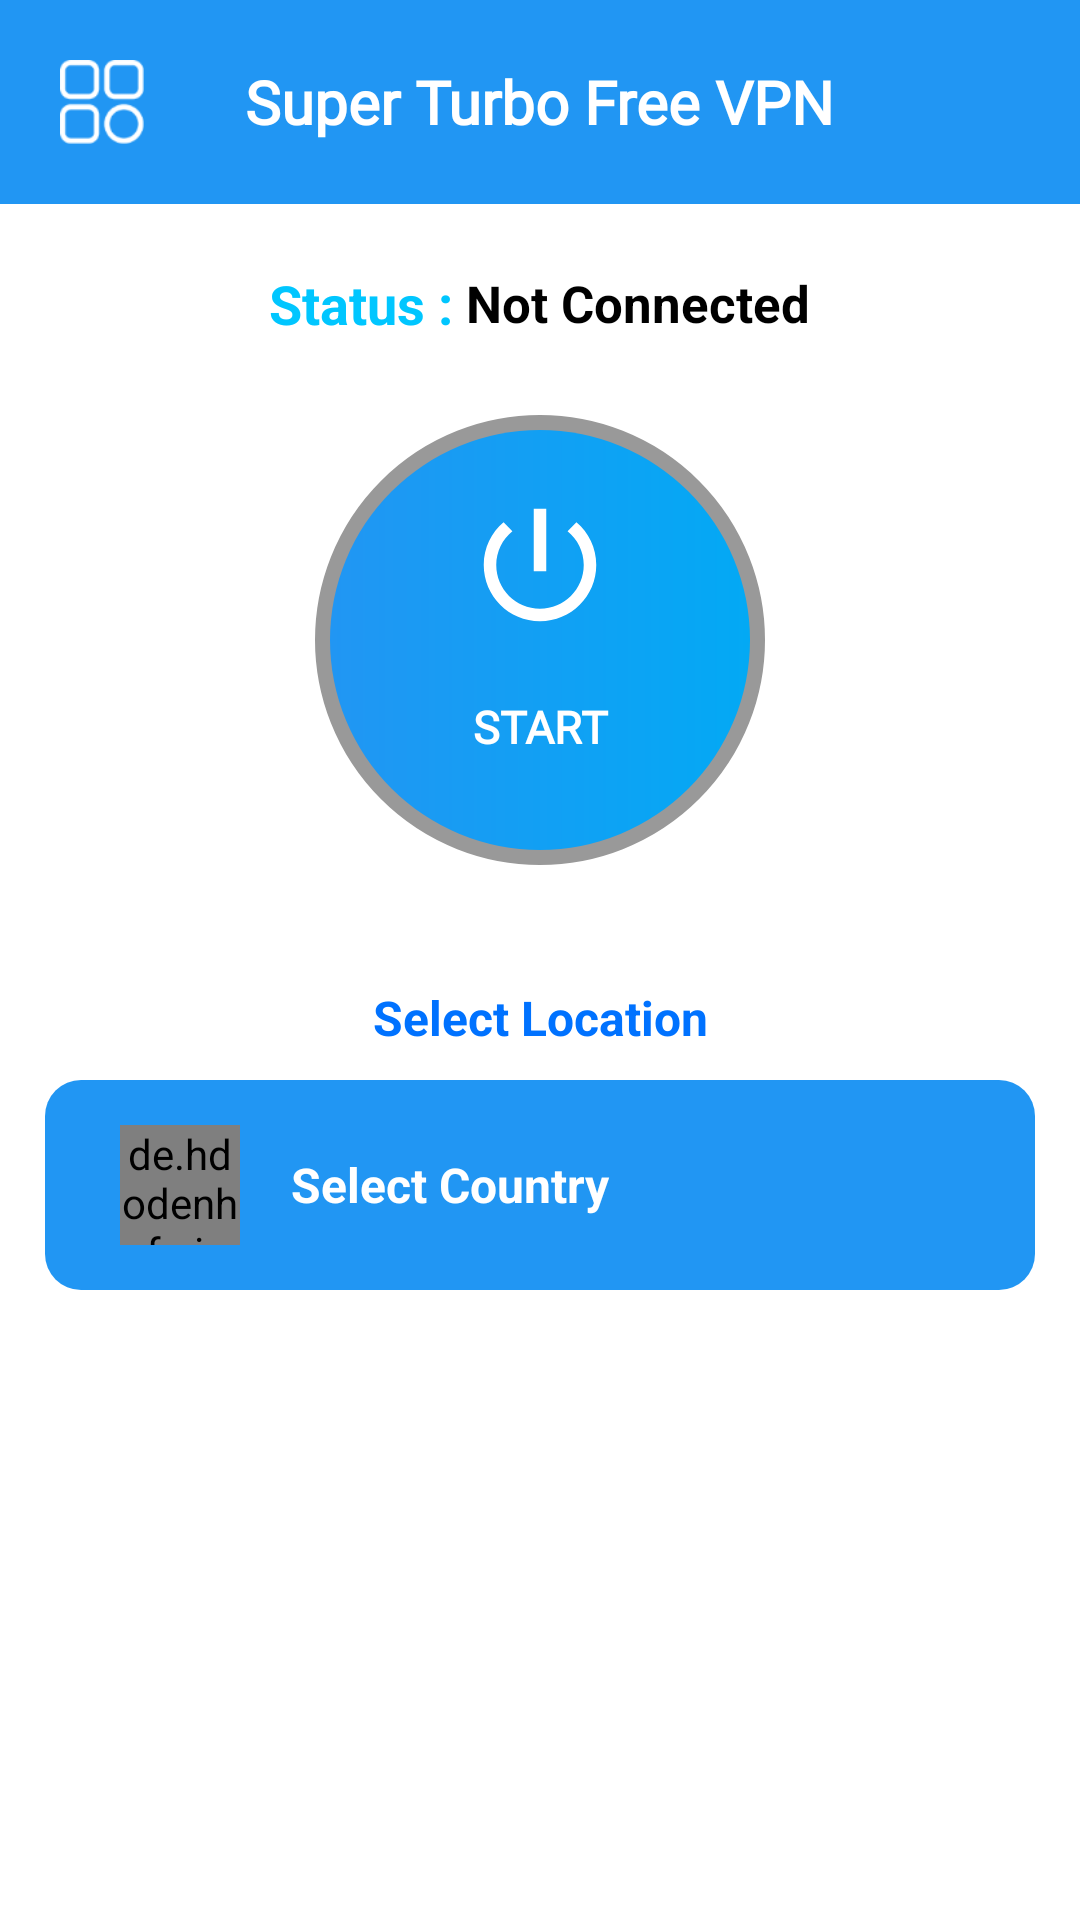

Icons on this 1080*1920 Android screen, each with the point to tap as [x,y]:
menuicon: [102,102]
